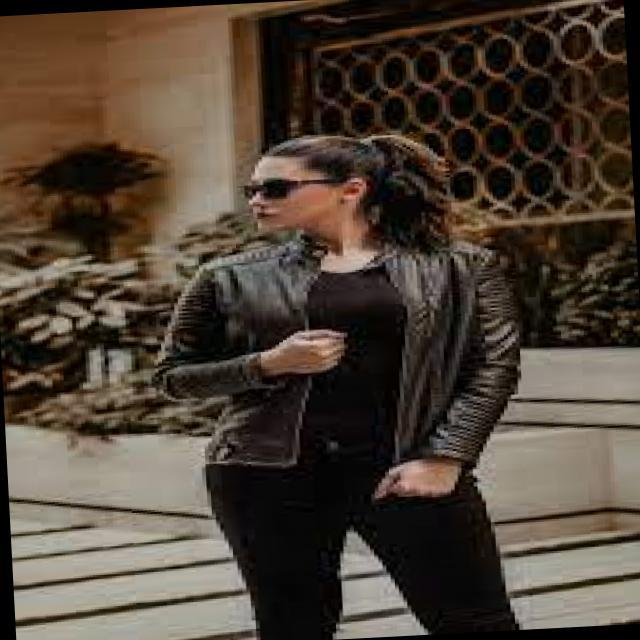jacket: (149, 232, 526, 472)
trousers: (199, 445, 522, 640)
vest: (301, 267, 412, 426)
